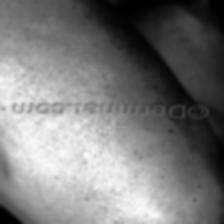Non-Cancerous Skin Condition: (70, 60, 128, 198)
